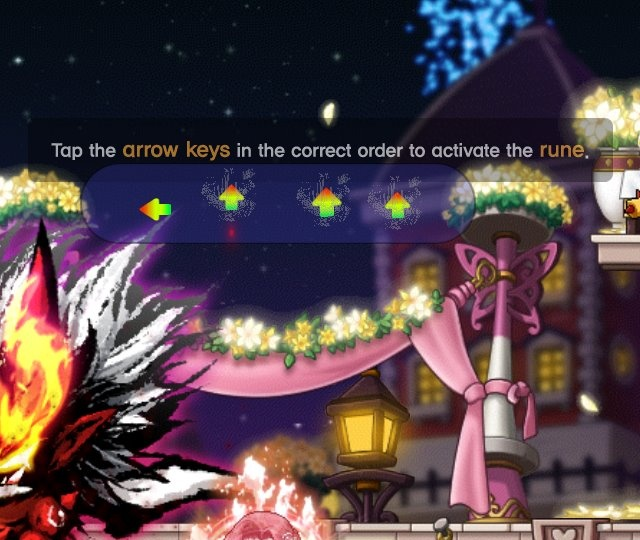rune_box: (70, 149, 487, 251)
